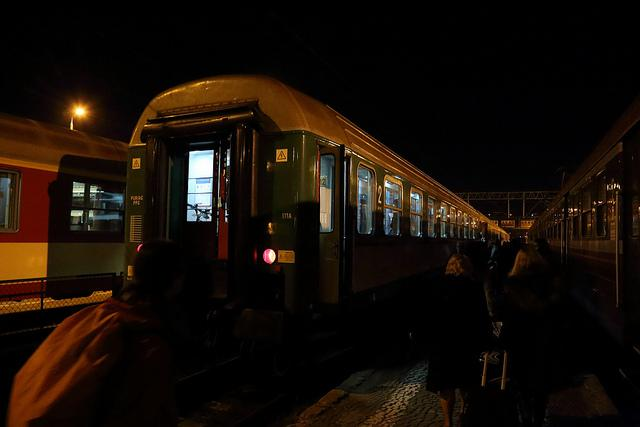Train: (122, 80, 510, 358), (530, 102, 640, 399), (2, 112, 136, 302)
